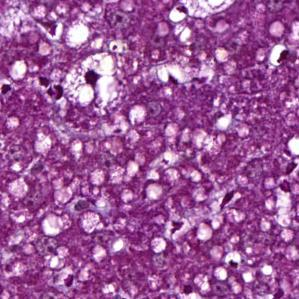ballooning: (60, 52, 125, 111)
